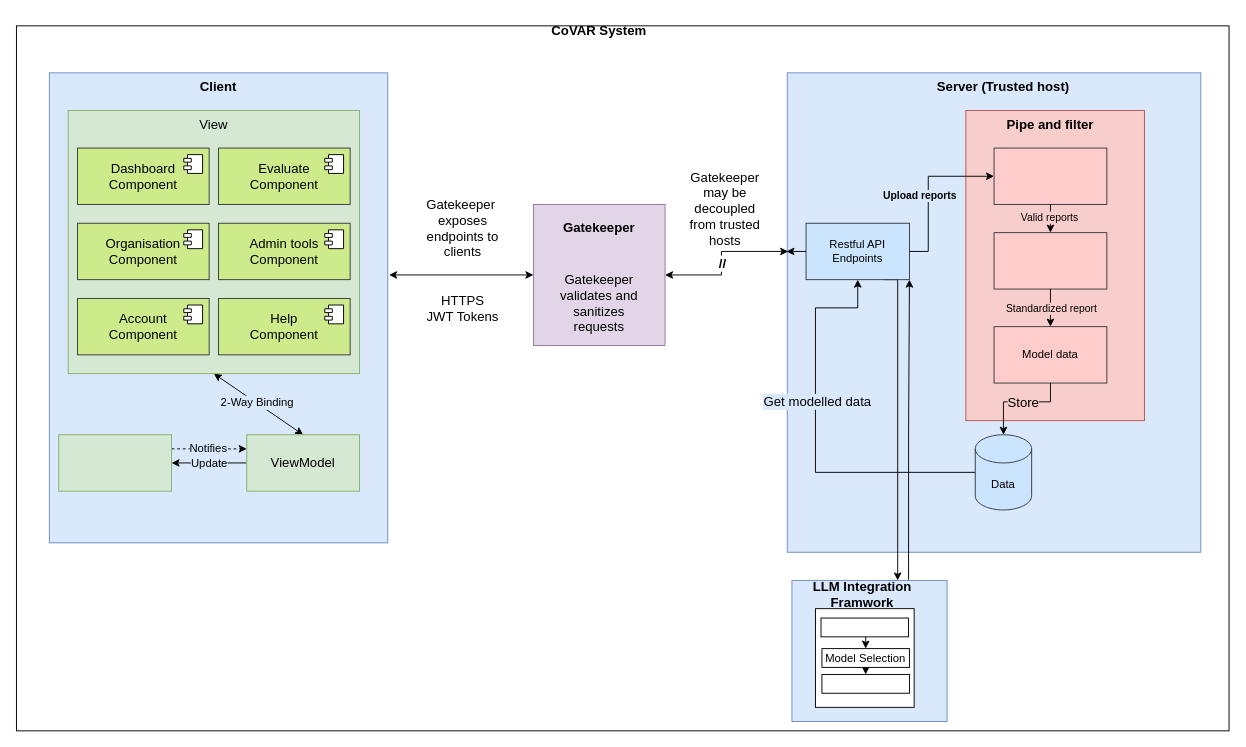
This 1246x747 diagram has some shape labels left out. The centre of each missing label's shape, as x and y in pixels:
"Model" goes at pixel 115 462.
"Post-processing" goes at pixel 865 683.
"Pre-processing" goes at pixel 864 627.
"Scan reports" goes at pixel 1050 175.
"Standardize" goes at pixel 1050 260.
